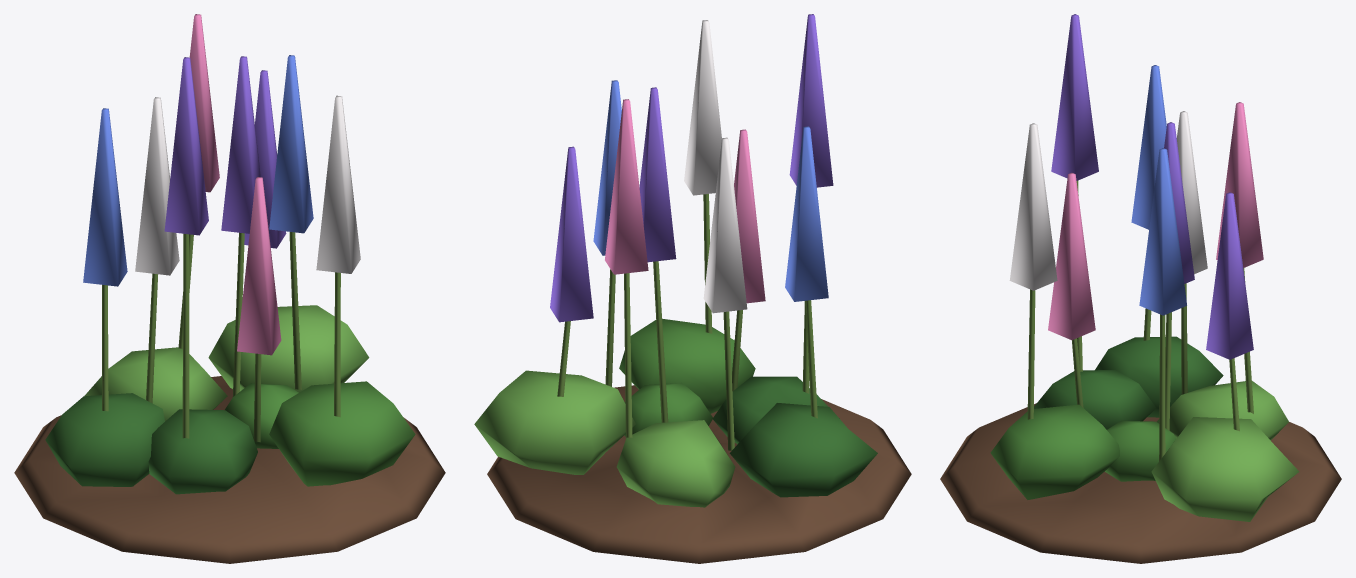
Rendered from lupins.far.glb.
The picture shows the model from 3 angles, left to right: view 1: azimuth 30°, elevation 25°; view 2: azimuth 150°, elevation 25°; view 3: azimuth 270°, elevation 25°; orthographic projection. The views are drawn at different scales.
Parts seen in each view (by area): view 1: lupins; view 2: lupins; view 3: lupins.
Boxes of the visible parts, left/top/right/bottom form: lupins: left=14, top=14, right=445, bottom=563; lupins: left=474, top=14, right=911, bottom=563; lupins: left=940, top=14, right=1341, bottom=563.
Bounding box in the file's own units: 0.84 × 0.9867 × 0.84.
